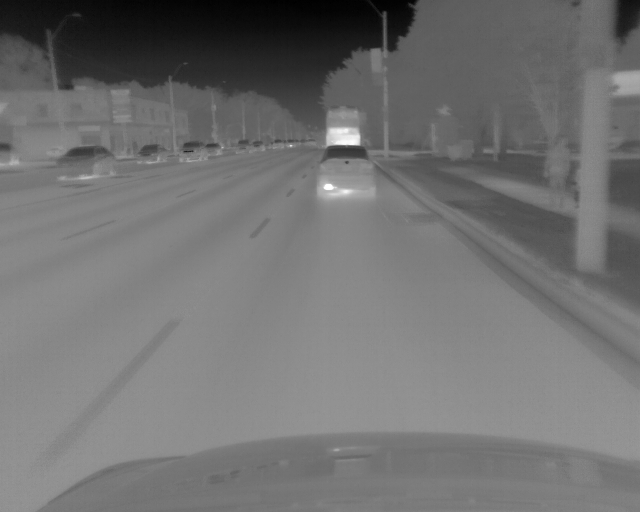car: (316, 145, 375, 199), (56, 145, 120, 181), (325, 106, 361, 146), (176, 140, 207, 163), (135, 143, 167, 165), (1, 142, 19, 166), (208, 142, 222, 158), (234, 140, 246, 154), (285, 139, 299, 149), (252, 141, 264, 152), (271, 139, 284, 149)
people: (541, 134, 571, 210)
